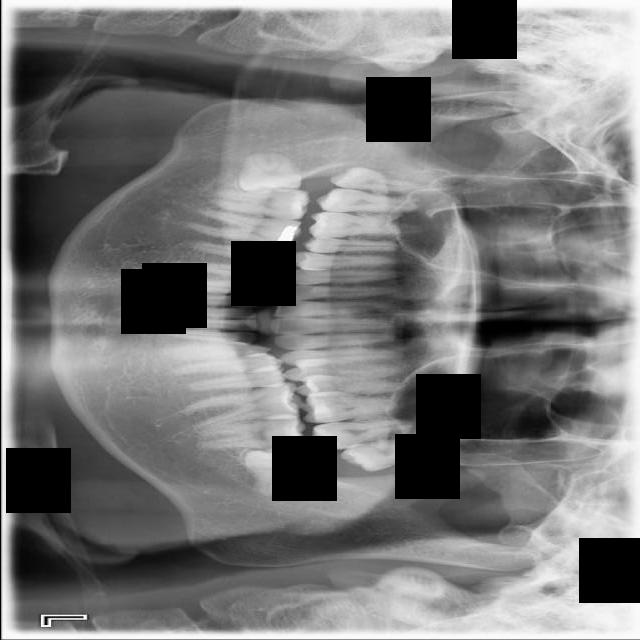3M ESPE Implant: (326, 164, 447, 198)
52: (250, 213, 303, 255)
73: (76, 606, 82, 612)
BioHorizons Implant: (308, 416, 414, 452)
BioLife Implant: (338, 431, 440, 476)
Biomet 3i Implant: (240, 446, 312, 499)
Blue Sky Bio Implant: (196, 414, 306, 452)
Caries: (315, 187, 432, 214)
Implant: (211, 182, 311, 222)
Keystone Dental Implant: (238, 153, 302, 194)
